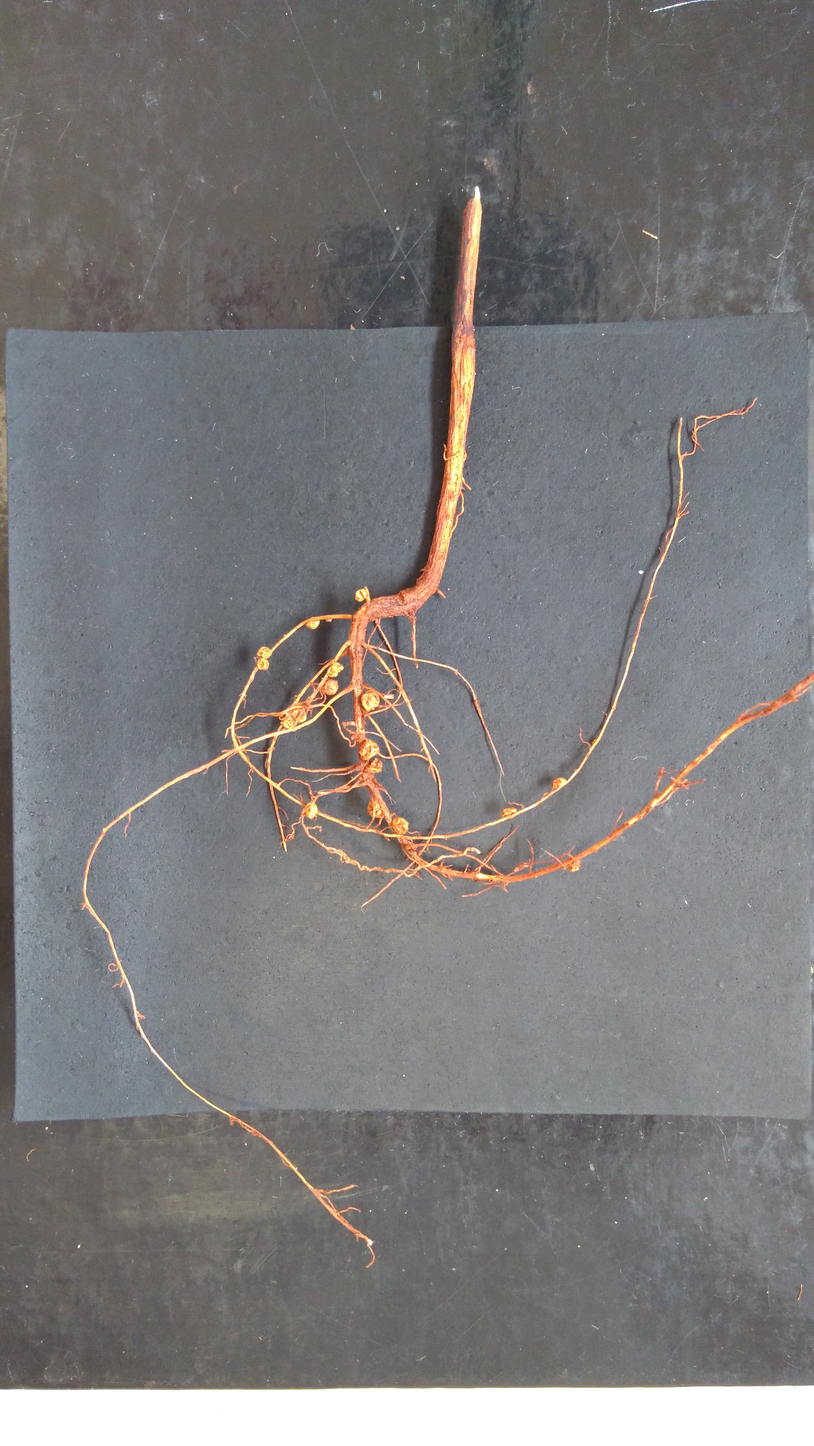nodule: (358, 739, 380, 761), (360, 691, 381, 712), (365, 798, 385, 820), (390, 816, 409, 837), (363, 757, 385, 775), (302, 802, 320, 820), (326, 662, 345, 678), (323, 679, 340, 696), (499, 806, 518, 819), (291, 709, 307, 724), (354, 587, 368, 603), (305, 616, 321, 630), (551, 776, 567, 790), (256, 645, 272, 658), (257, 657, 270, 671), (281, 720, 295, 729), (568, 865, 580, 872)
